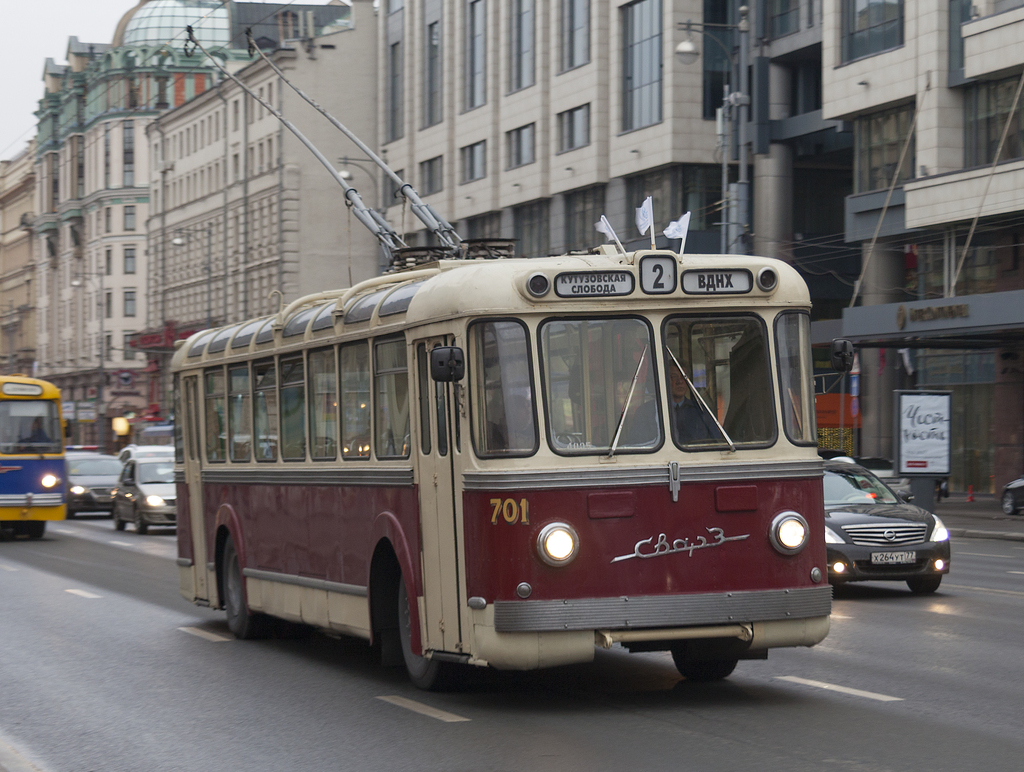Bus: (167, 25, 832, 689), (0, 372, 68, 538)
